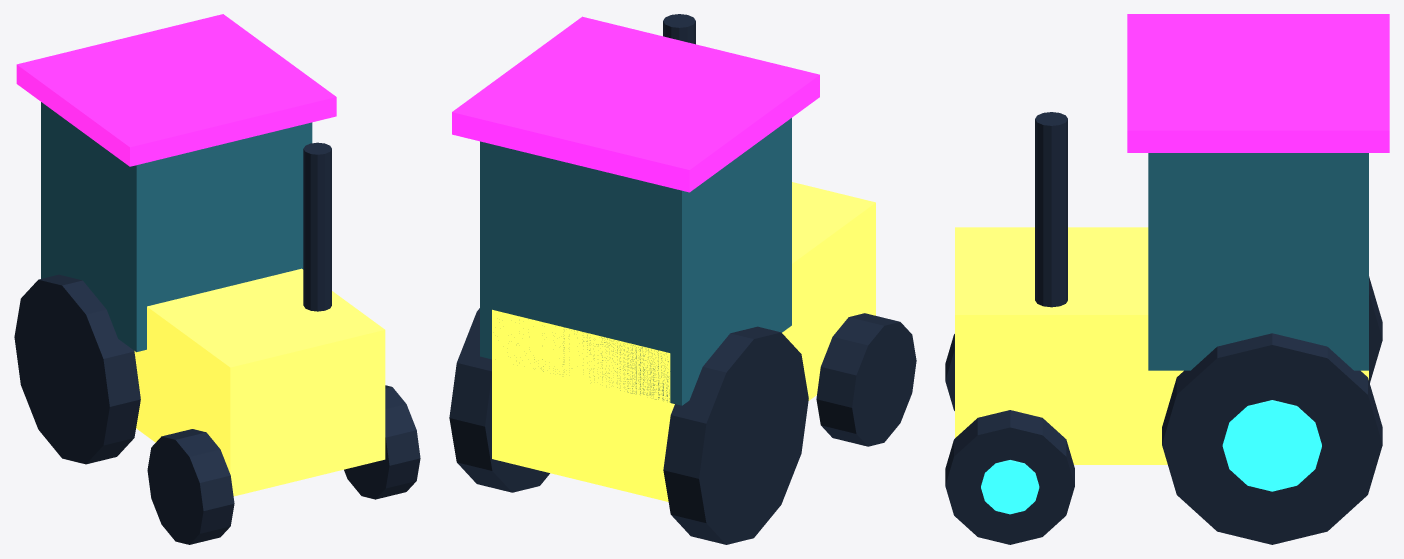
File: PROP_tractor_20261005.glb
3 renders of one model, left to right at view 1: azimuth 30°, elevation 25°; view 2: azimuth 150°, elevation 25°; view 3: azimuth 270°, elevation 25°, orthographic. The views are drawn at different scales.
Visible parts, largest first — view 1: VEH_Tractor, VEH_TractorCab, VEH_TractorRoof, VEH_Wheel.016, VEH_Wheel.017, VEH_TractorExhaust, VEH_Wheel.019; view 2: VEH_TractorCab, VEH_Tractor, VEH_TractorRoof, VEH_Wheel.016, VEH_Wheel.017, VEH_Wheel.018, VEH_TractorExhaust; view 3: VEH_TractorCab, VEH_Tractor, VEH_TractorRoof, VEH_Wheel.018, VEH_Wheel.019, VEH_Hub.018, VEH_TractorExhaust, VEH_Hub.019, VEH_Wheel.016.
Part boxes in pixels (x1,y1,x2,y2): VEH_Tractor: (134,268,385,496); VEH_TractorCab: (41,102,312,352); VEH_TractorRoof: (16,14,336,166); VEH_Wheel.016: (14,274,140,464); VEH_Wheel.017: (147,429,234,544); VEH_TractorExhaust: (303,142,331,311); VEH_Wheel.019: (344,385,420,499); VEH_TractorCab: (480,118,791,405); VEH_Tractor: (492,182,875,501); VEH_TractorRoof: (452,16,819,192); VEH_Wheel.016: (663,326,808,544); VEH_Wheel.017: (816,313,916,446); VEH_Wheel.018: (449,308,549,492); VEH_TractorExhaust: (663,14,695,44); VEH_TractorCab: (1148,153,1368,370); VEH_Tractor: (955,227,1368,464); VEH_TractorRoof: (1127,14,1389,152); VEH_Wheel.018: (1162,333,1382,544); VEH_Wheel.019: (945,410,1074,544); VEH_Hub.018: (1222,400,1321,491); VEH_TractorExhaust: (1035,112,1067,307); VEH_Hub.019: (981,460,1039,514); VEH_Wheel.016: (1369,276,1382,383).
Size of the model in its own units: 2.13 by 3.29 by 3.22.
